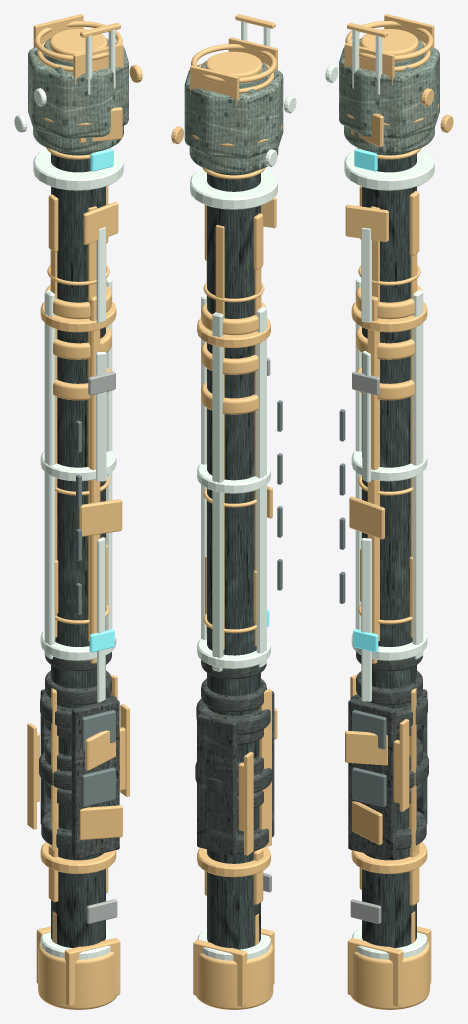
The model's file is hp_viewmodel_iron_rod_wgpu_battleworn.glb.
The picture shows the model from 3 angles, left to right: view 1: azimuth 30°, elevation 25°; view 2: azimuth 150°, elevation 25°; view 3: azimuth 330°, elevation 25°; orthographic projection. The views are drawn at different scales.
Visible parts, largest first — view 1: iron_rod_aesthetic_counterweight_burnished_strip, iron_rod_main_bar, iron_rod_aesthetic_leather_wrap_swell_low, iron_rod_impact_head_lower_flat, hp_iron_rod_longitudinal_rib_02, hp_iron_rod_longitudinal_rib_03, hp_iron_rod_raised_collar_05, hp_iron_rod_oiled_bronze_slash_plate_02, hp_iron_rod_oiled_bronze_slash_plate_00, hp_iron_rod_longitudinal_rib_00, hp_iron_rod_bright_worn_edge_cut_00, hp_iron_rod_bright_worn_edge_cut_01 (+17 smaller); view 2: iron_rod_main_bar, iron_rod_aesthetic_counterweight_burnished_strip, iron_rod_aesthetic_leather_wrap_swell_low, iron_rod_impact_head_lower_flat, hp_iron_rod_longitudinal_rib_01, hp_iron_rod_longitudinal_rib_02, hp_iron_rod_raised_collar_05, hp_iron_rod_longitudinal_rib_00, hp_iron_rod_raised_collar_01, hp_iron_rod_raised_collar_02, hp_iron_rod_raised_collar_03, hp_iron_rod_raised_collar_04 (+2 smaller); view 3: iron_rod_aesthetic_counterweight_burnished_strip, iron_rod_main_bar, iron_rod_impact_head_lower_flat, iron_rod_aesthetic_leather_wrap_swell_low, hp_iron_rod_longitudinal_rib_00, hp_iron_rod_longitudinal_rib_03, hp_iron_rod_raised_collar_05, hp_iron_rod_bright_worn_edge_cut_00, hp_iron_rod_longitudinal_rib_02, hp_iron_rod_oiled_bronze_slash_plate_03, hp_iron_rod_oiled_bronze_slash_plate_01, hp_iron_rod_oiled_bronze_slash_plate_02 (+17 smaller).
Part boxes in pixels (bbox=[...]): iron_rod_aesthetic_counterweight_burnished_strip: bbox=[27, 14, 129, 1009]; iron_rod_main_bar: bbox=[51, 151, 105, 947]; iron_rod_aesthetic_leather_wrap_swell_low: bbox=[39, 652, 119, 859]; iron_rod_impact_head_lower_flat: bbox=[28, 38, 128, 153]; hp_iron_rod_longitudinal_rib_02: bbox=[44, 290, 55, 659]; hp_iron_rod_longitudinal_rib_03: bbox=[89, 296, 100, 663]; hp_iron_rod_raised_collar_05: bbox=[33, 148, 123, 190]; hp_iron_rod_oiled_bronze_slash_plate_02: bbox=[79, 499, 122, 536]; hp_iron_rod_oiled_bronze_slash_plate_00: bbox=[80, 805, 122, 839]; hp_iron_rod_longitudinal_rib_00: bbox=[106, 277, 112, 630]; hp_iron_rod_bright_worn_edge_cut_00: bbox=[97, 537, 105, 702]; hp_iron_rod_bright_worn_edge_cut_01: bbox=[96, 352, 106, 481]; iron_rod_main_bar: bbox=[207, 171, 260, 949]; iron_rod_aesthetic_counterweight_burnished_strip: bbox=[190, 37, 282, 1009]; iron_rod_aesthetic_leather_wrap_swell_low: bbox=[195, 660, 274, 855]; iron_rod_impact_head_lower_flat: bbox=[184, 61, 283, 173]; hp_iron_rod_longitudinal_rib_01: bbox=[212, 312, 223, 671]; hp_iron_rod_longitudinal_rib_02: bbox=[256, 306, 266, 667]; hp_iron_rod_raised_collar_05: bbox=[190, 168, 277, 209]; hp_iron_rod_longitudinal_rib_00: bbox=[201, 294, 206, 639]; hp_iron_rod_raised_collar_01: bbox=[197, 847, 270, 877]; hp_iron_rod_raised_collar_02: bbox=[197, 639, 270, 668]; hp_iron_rod_raised_collar_03: bbox=[197, 463, 270, 493]; hp_iron_rod_raised_collar_04: bbox=[197, 318, 270, 348]; iron_rod_aesthetic_counterweight_burnished_strip: bbox=[344, 14, 438, 1009]; iron_rod_main_bar: bbox=[362, 151, 416, 947]; iron_rod_impact_head_lower_flat: bbox=[339, 38, 439, 153]; iron_rod_aesthetic_leather_wrap_swell_low: bbox=[348, 652, 428, 859]; hp_iron_rod_longitudinal_rib_00: bbox=[412, 290, 423, 659]; hp_iron_rod_longitudinal_rib_03: bbox=[367, 296, 378, 663]; hp_iron_rod_raised_collar_05: bbox=[344, 148, 434, 190]; hp_iron_rod_bright_worn_edge_cut_00: bbox=[361, 538, 371, 701]; hp_iron_rod_longitudinal_rib_02: bbox=[355, 277, 361, 629]; hp_iron_rod_oiled_bronze_slash_plate_03: bbox=[345, 204, 388, 242]; hp_iron_rod_oiled_bronze_slash_plate_01: bbox=[345, 730, 387, 765]; hp_iron_rod_oiled_bronze_slash_plate_02: bbox=[349, 496, 384, 539].
Bounding box in the file's own units: 0.312 × 2.9 × 0.2841.
10 materials, 3 textured.
